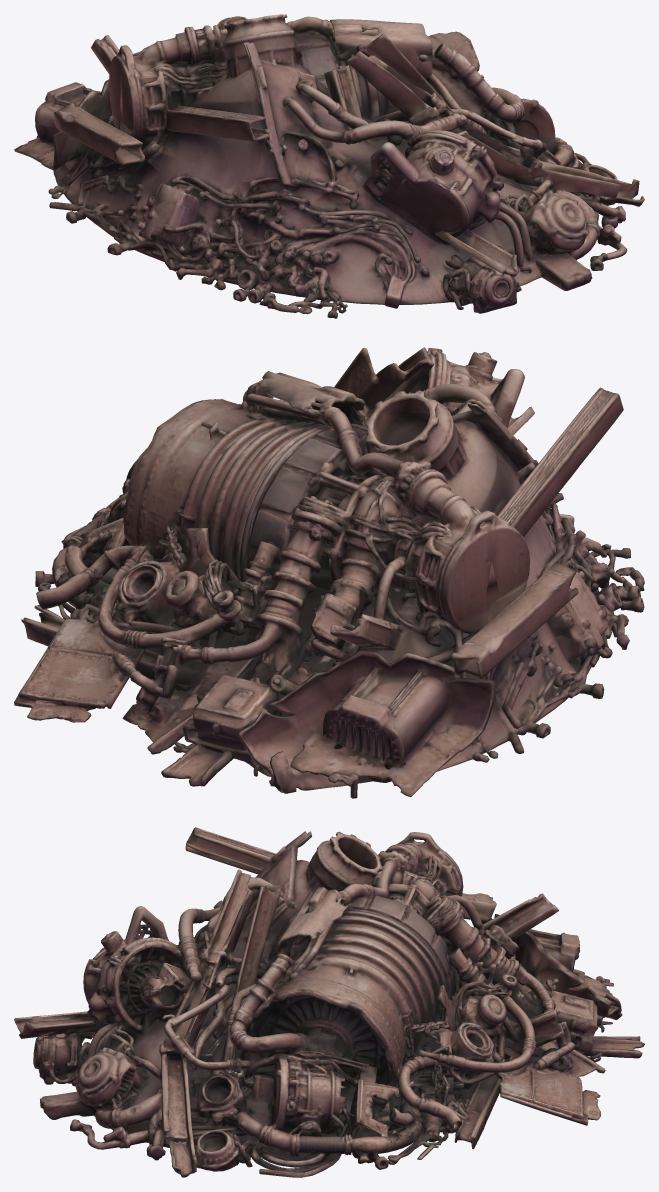
The model's file is scrap_metal_3d_model.fbx.
The picture shows the model from 3 angles, top to bottom: view 1: azimuth 30°, elevation 25°; view 2: azimuth 150°, elevation 25°; view 3: azimuth 270°, elevation 25°; orthographic projection. The views are drawn at different scales.
Visible parts, largest first — view 1: tripo_node_b65656fb; view 2: tripo_node_b65656fb; view 3: tripo_node_b65656fb.
Boxes of the visible parts, x1,y1,x2,y2 form: tripo_node_b65656fb: (14, 14, 644, 318); tripo_node_b65656fb: (14, 347, 644, 798); tripo_node_b65656fb: (14, 827, 644, 1177).
Size of the model in its own units: 0.7898 by 0.3436 by 0.9813.
